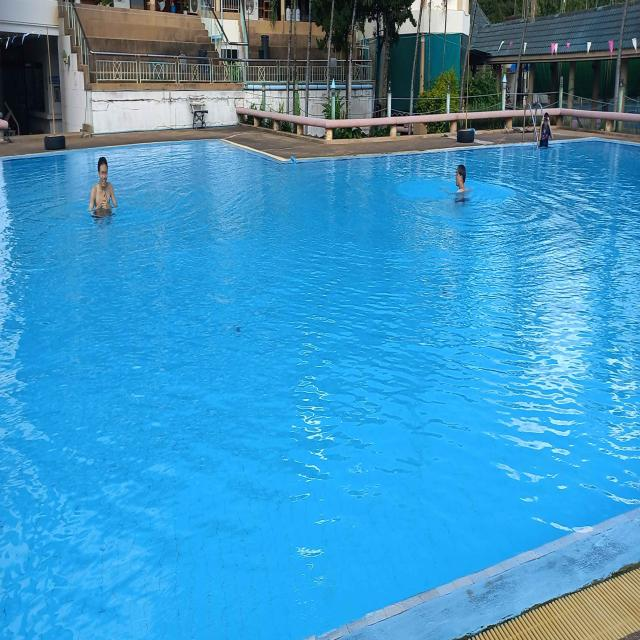Swimming: (82, 142, 120, 246), (454, 148, 473, 214), (535, 109, 553, 154)
